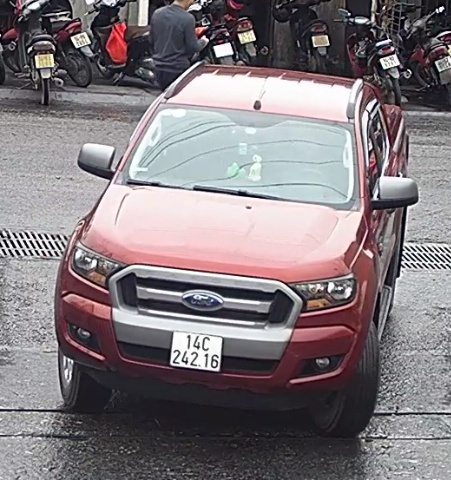vehicle plate: (167, 326, 221, 373)
